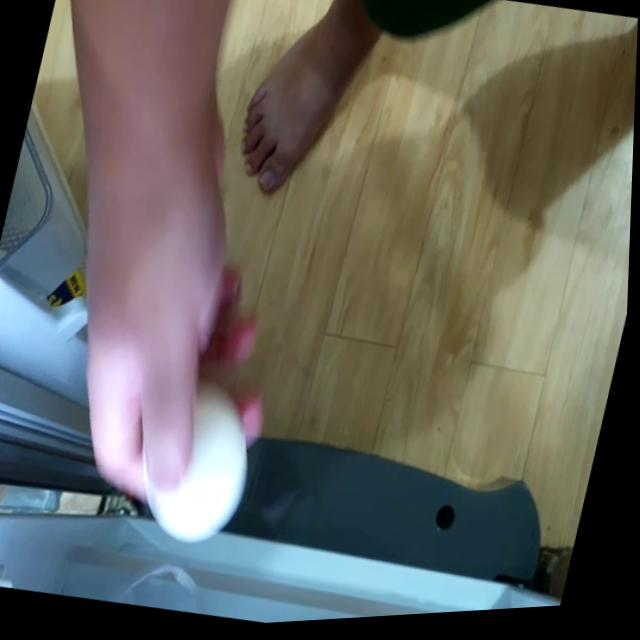egg: (139, 374, 272, 552)
